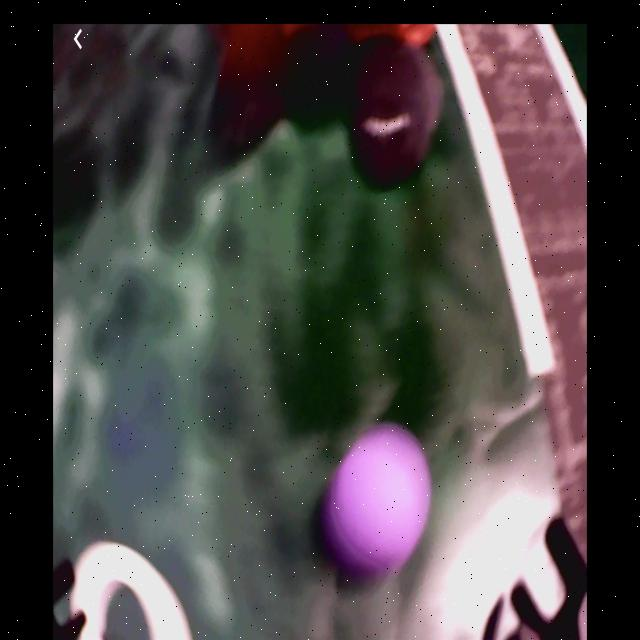ball: (330, 427, 430, 571)
